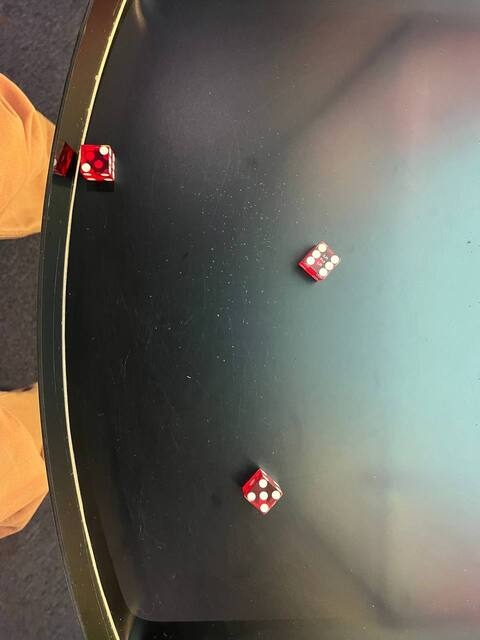five: (242, 477, 285, 515)
six: (300, 239, 346, 283)
two: (78, 141, 113, 176)
